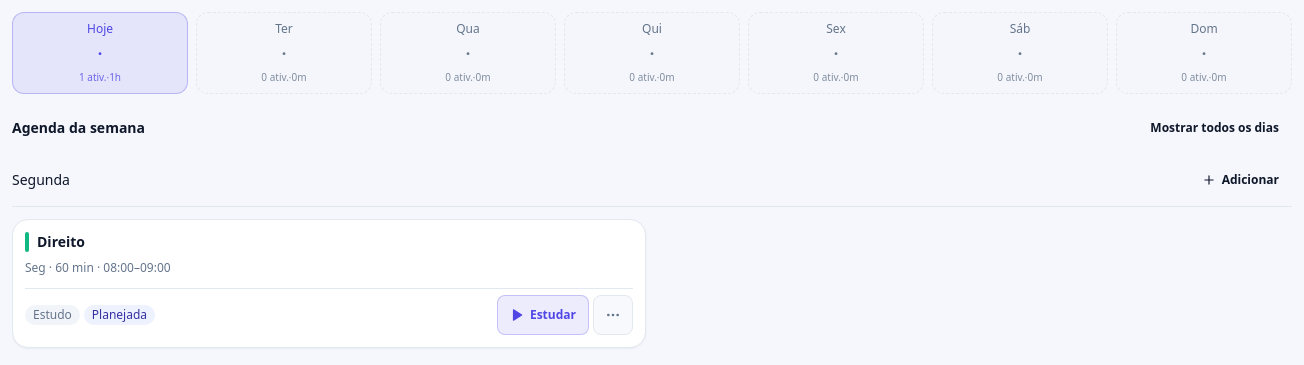
Test: seleciona um dia vazio, adiciona nele e retorna à semana sem perder atividades
The width and height of the screenshot is (1304, 365).
Click the button with aria-label "Terça, 0 atividades, 0 min": [284, 53] box [196,12,372,94]
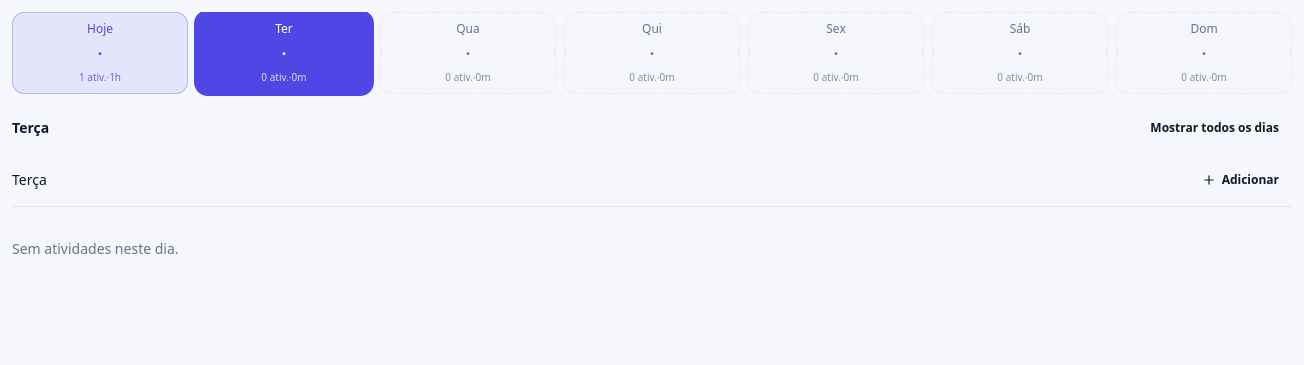
Expected: the text "Sem atividades neste dia." is shown, [12,239,178,258]
Click the button with aria-label "Adicionar atividade Ter": [1240, 180] box [1189,162,1292,198]
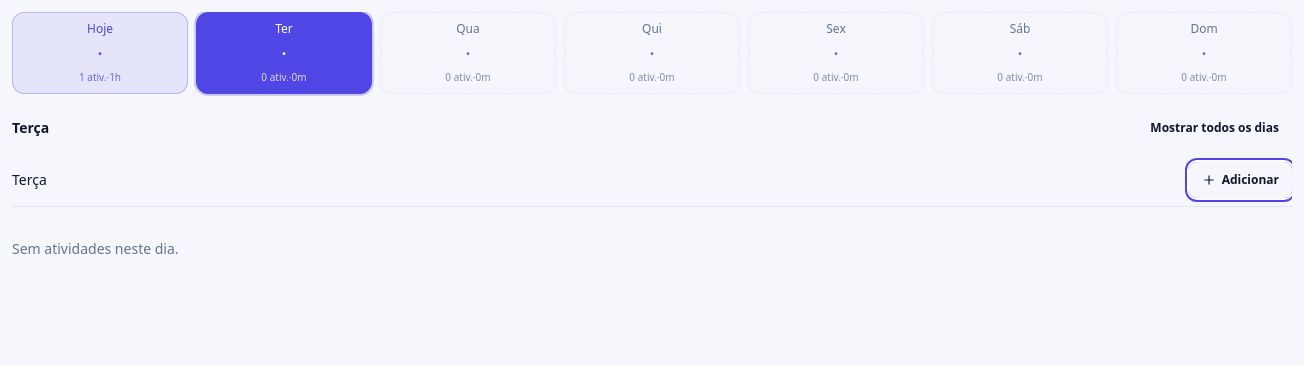
Click the button "Mostrar todos os dias": [1215, 128] box [1137,110,1292,146]
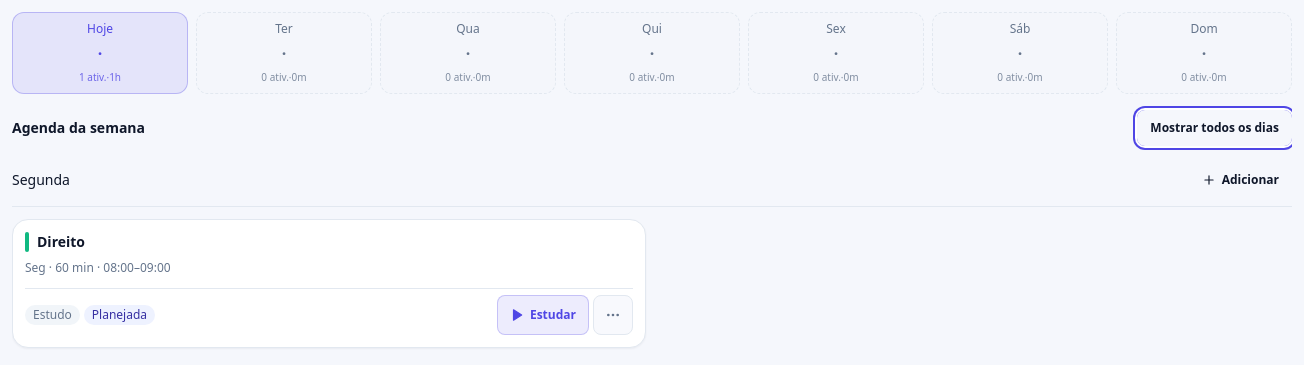
Expected: the element named "Bloco de estudo: Direito" is shown, [12,219,646,348]
